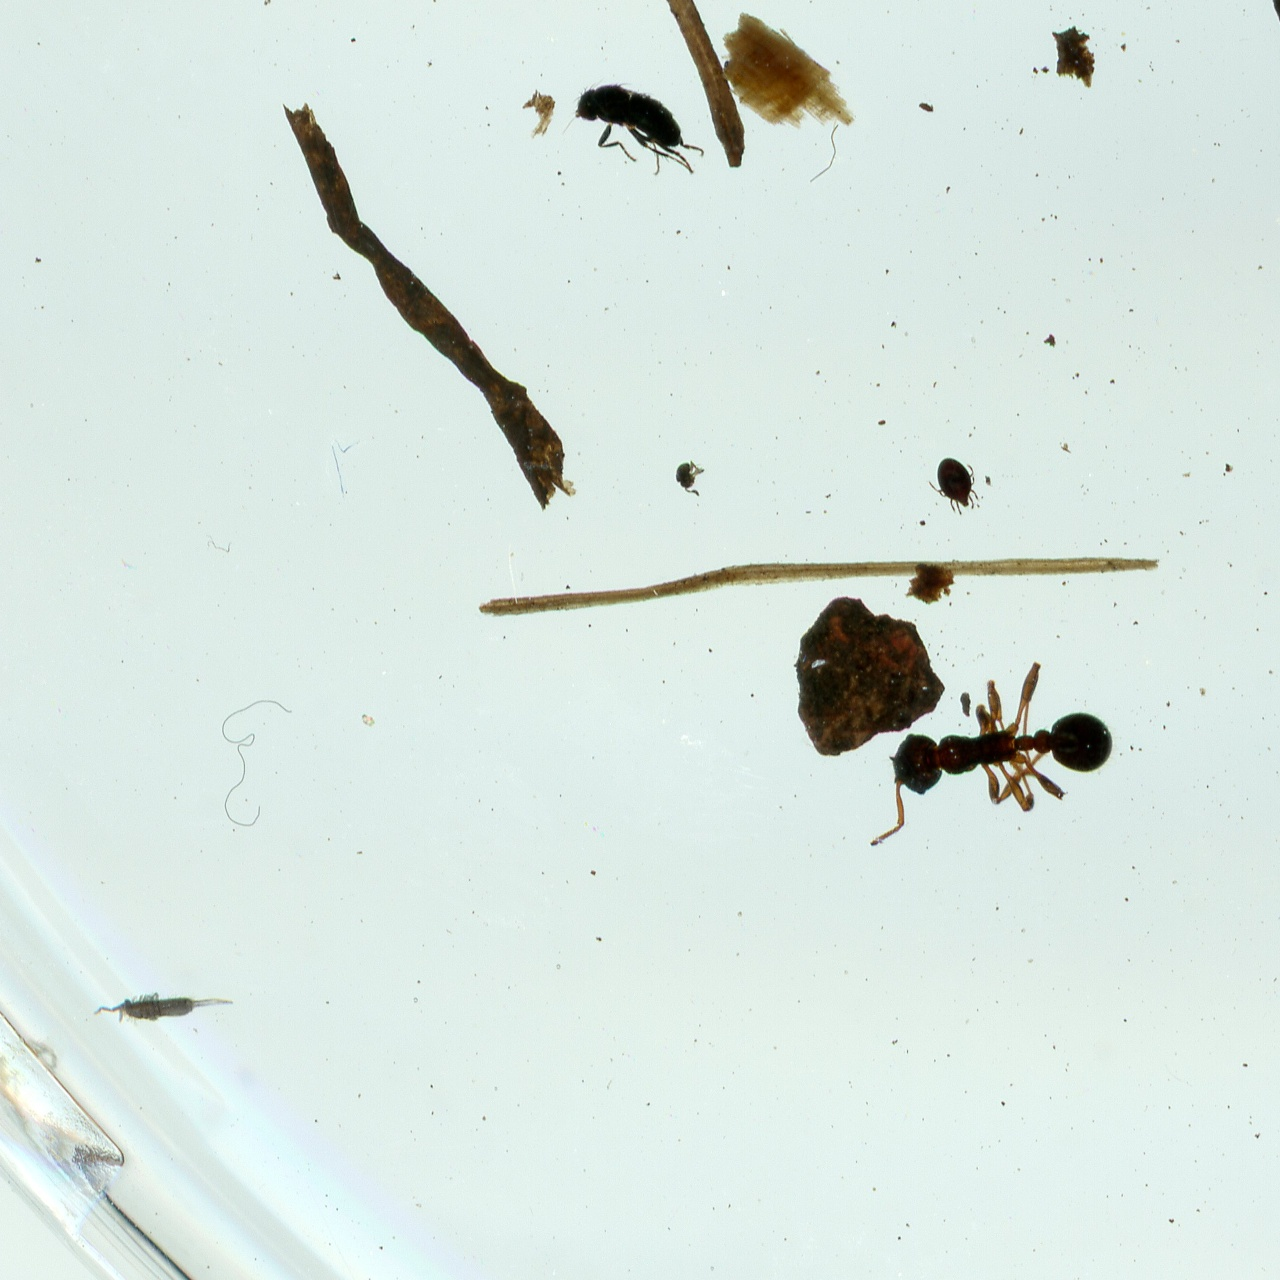arthropod: (835, 647, 1130, 858), (556, 72, 708, 183), (82, 981, 237, 1028), (917, 443, 994, 529)
